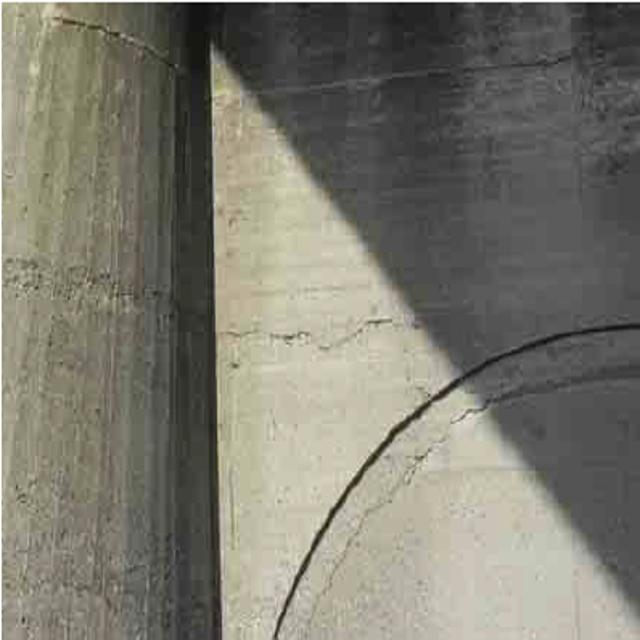crack: (233, 317, 637, 622)
